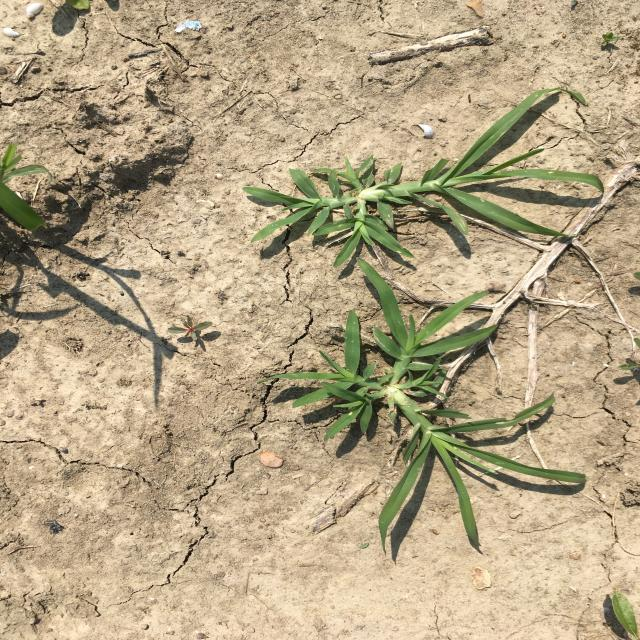Goosegrass: (256, 256, 588, 556), (242, 87, 606, 270)
